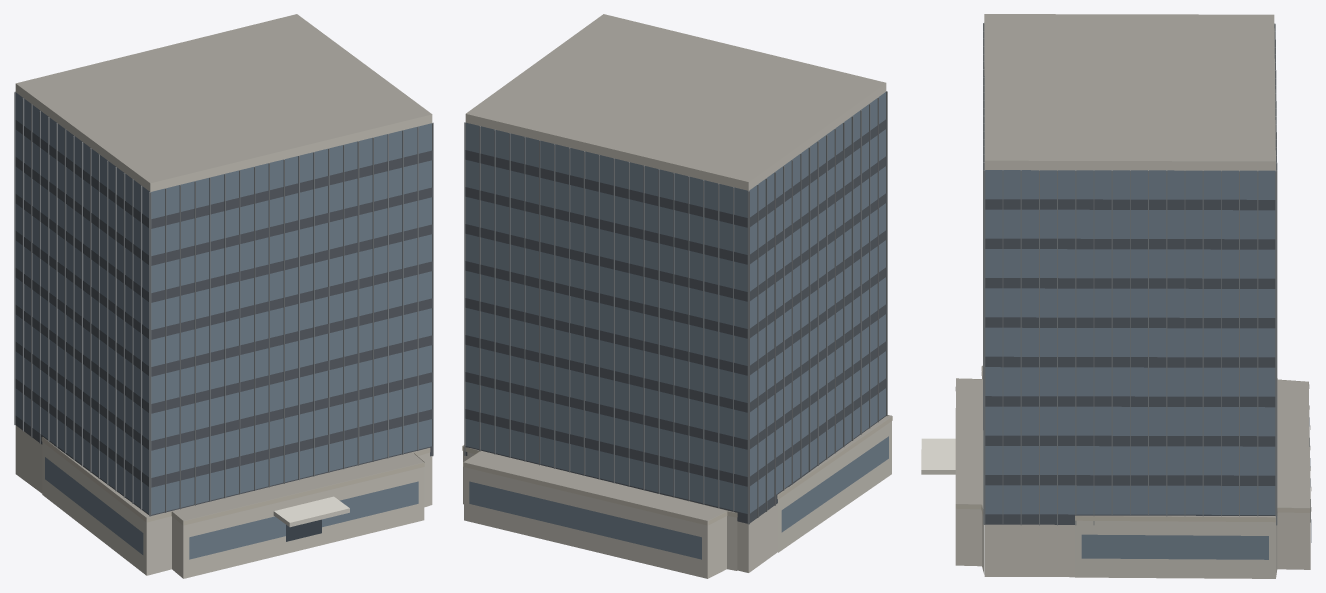
File: university-tower.glb
The picture shows the model from 3 angles, left to right: view 1: azimuth 30°, elevation 25°; view 2: azimuth 150°, elevation 25°; view 3: azimuth 270°, elevation 25°; orthographic projection. The views are drawn at different scales.
Parts seen in each view (by area): view 1: university_tower; view 2: university_tower; view 3: university_tower.
Boxes of the visible parts, bbox=[...] form: university_tower: bbox=[14, 14, 433, 578]; university_tower: bbox=[462, 14, 892, 578]; university_tower: bbox=[921, 14, 1311, 578].
Size of the model in its own units: 31.4 by 40.16 by 34.11.
